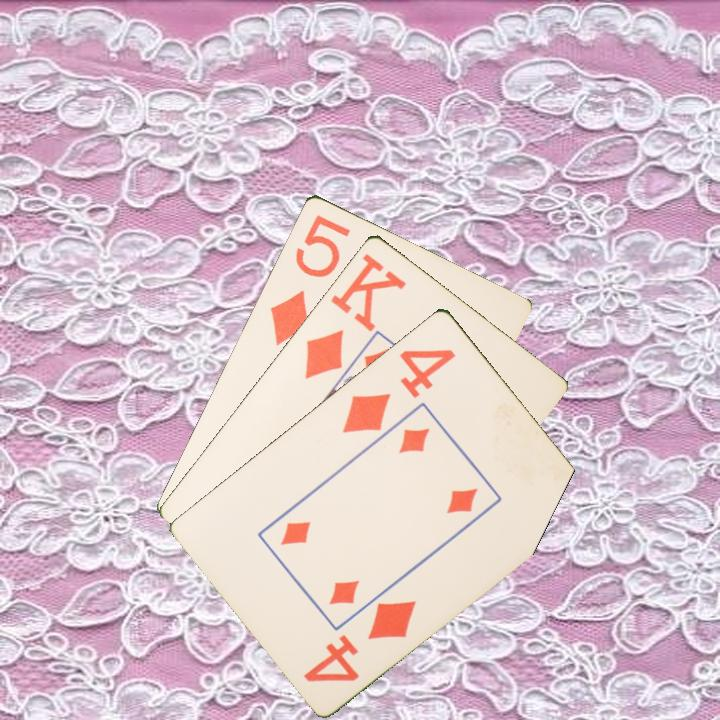4d: (338, 344, 459, 436), (299, 595, 419, 685)
5d: (265, 210, 353, 348)
Kd: (301, 249, 409, 382)
